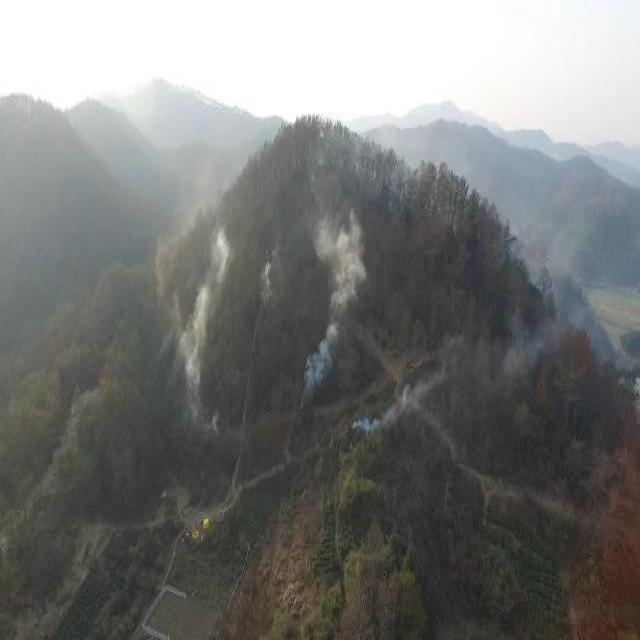Smoke: (350, 307, 565, 433), (152, 187, 234, 436), (297, 146, 369, 402)
